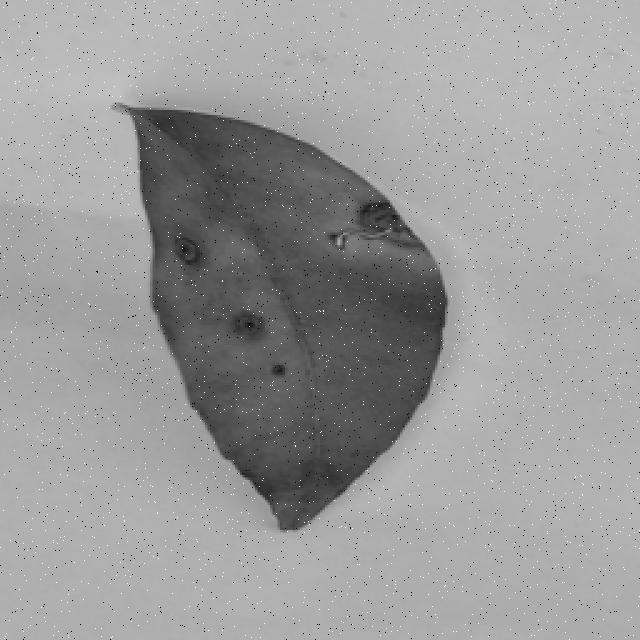canker: (143, 150, 444, 454)
